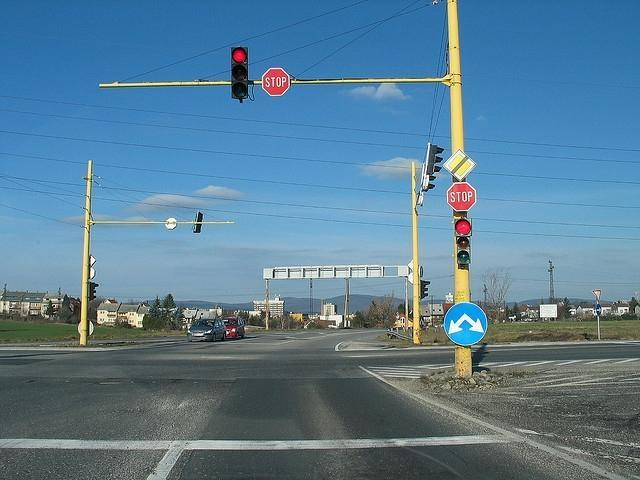car: (188, 319, 228, 343), (222, 316, 244, 339)
